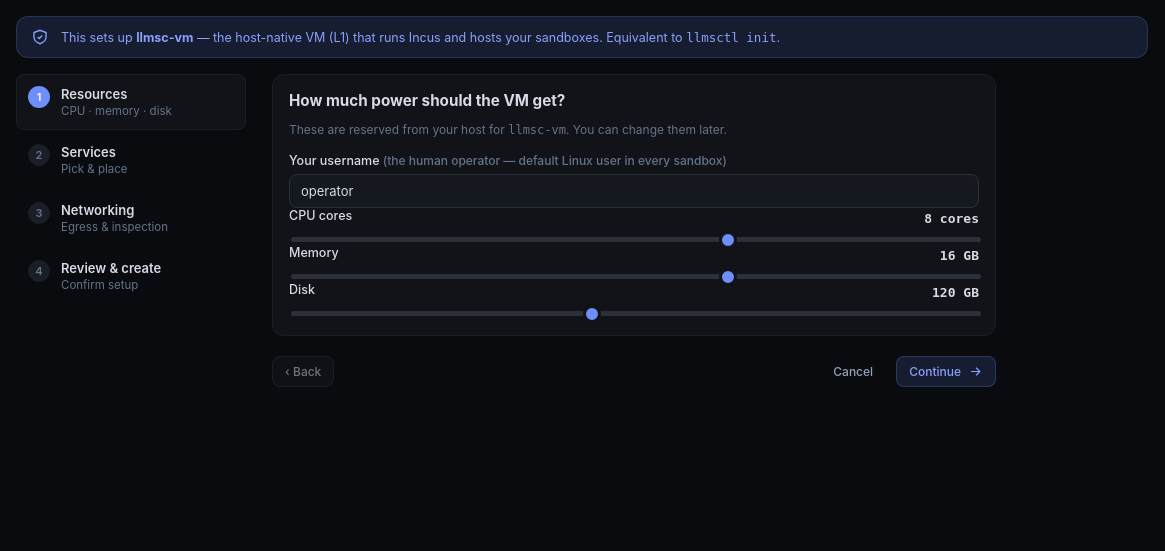
Scenario: Wizard › walks through the steps and creates the environment
Expected: the heading "How much power should the VM get?" is shown, [289,91,565,110]
Click the button "Continue" at (946,372), box [896,356,996,387]
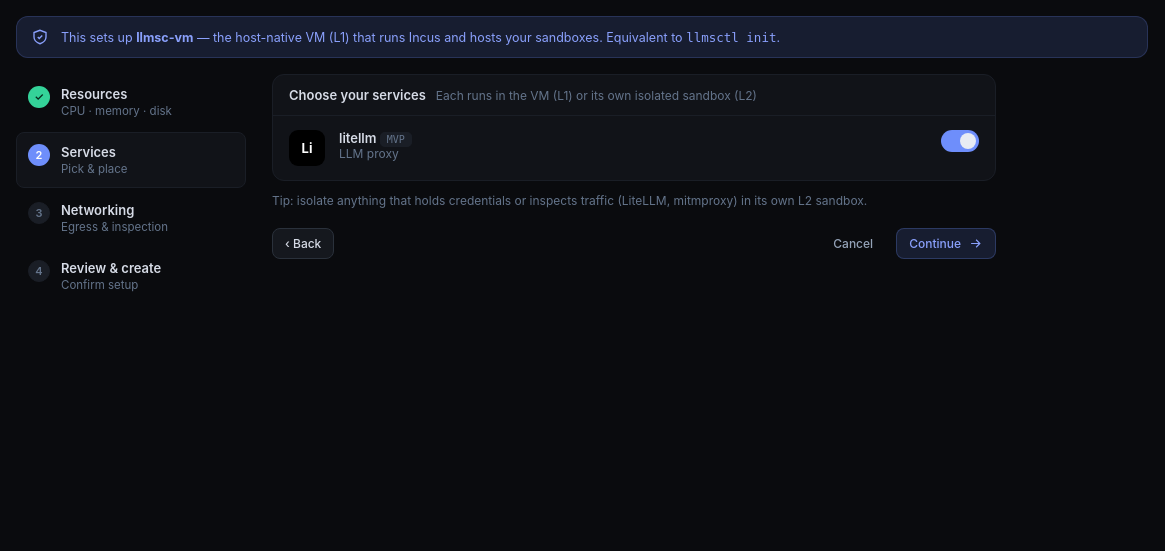
Click the button "Continue" at (946,244), box [896,228,996,259]
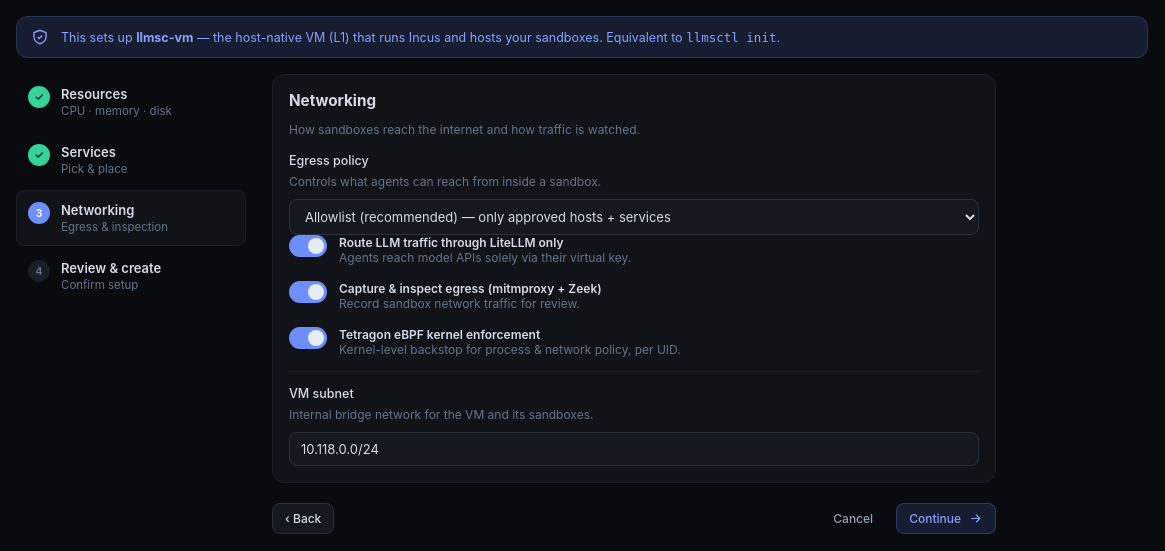
Click the button "Continue" at (946,518), box [896,503,996,534]
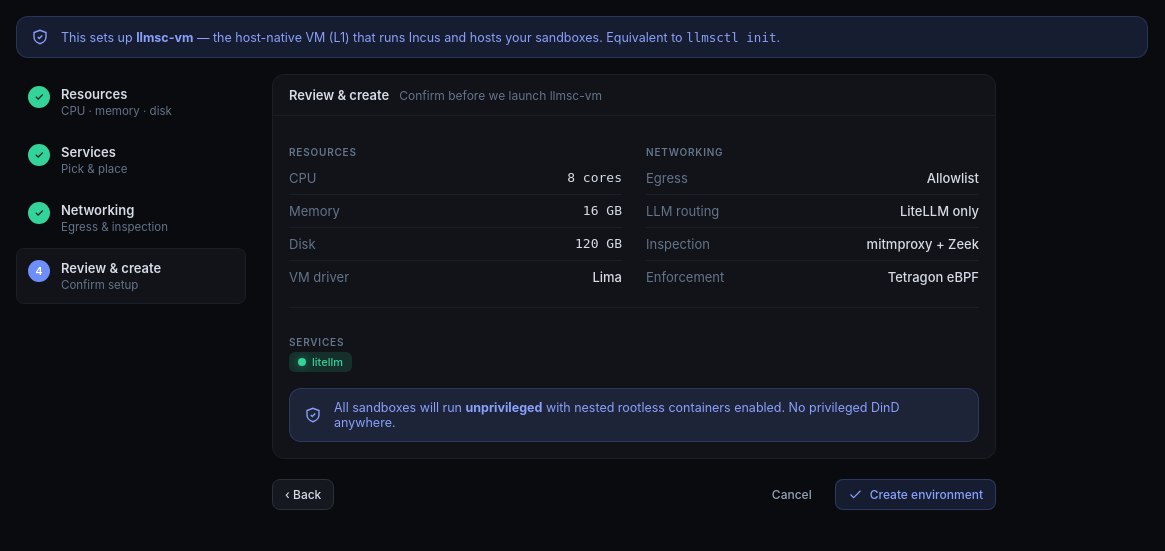
Click the button "Create environment" at (915,494), box [835,479,996,510]
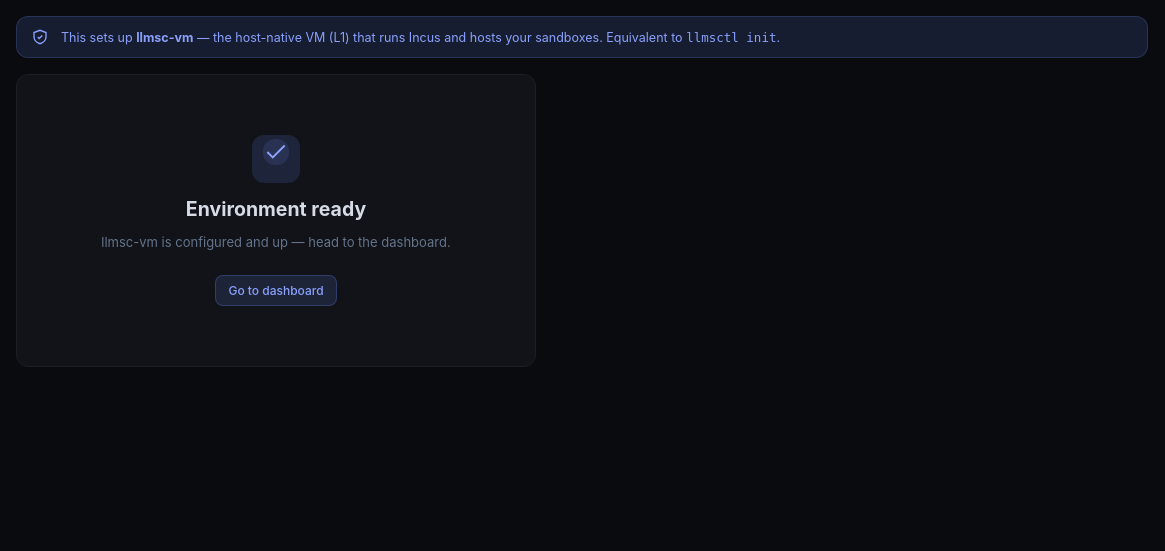
Expected: the heading "Environment ready" is shown, [186,197,366,221]
